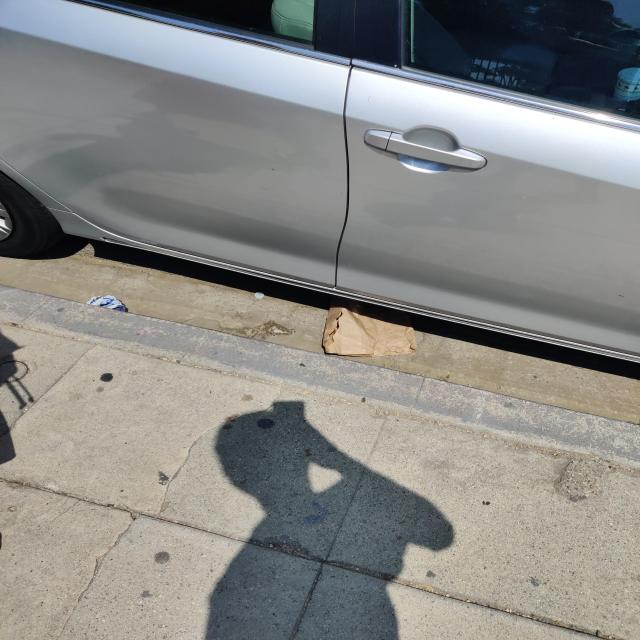litter: (317, 306, 422, 359), (85, 293, 129, 318)
